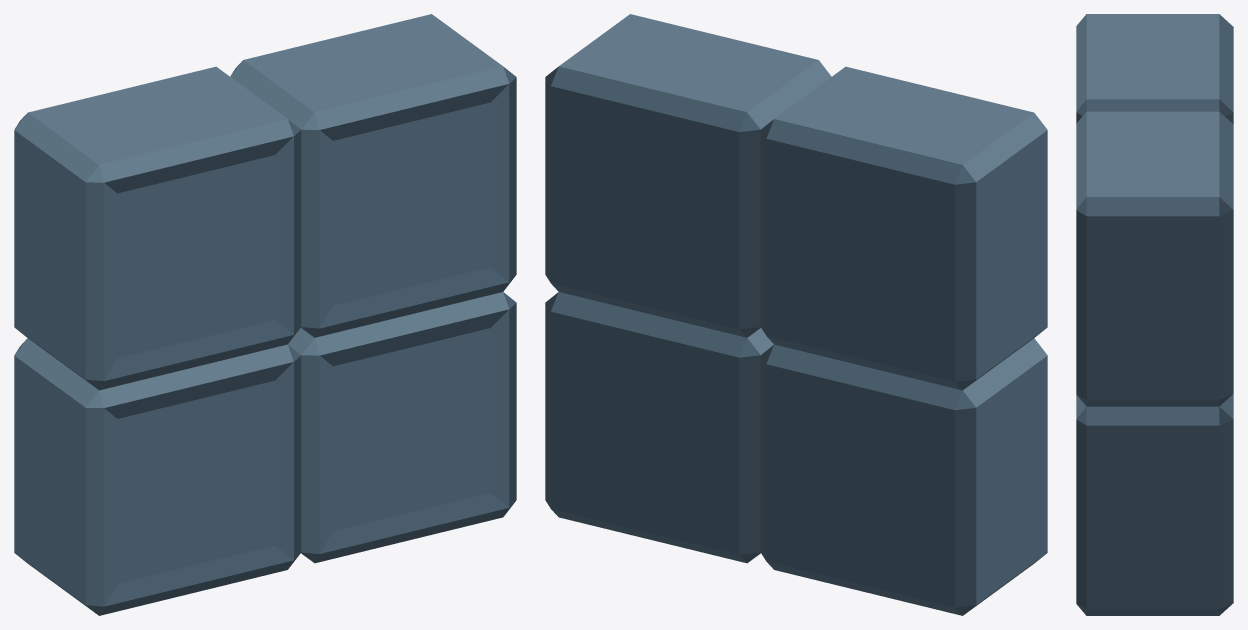
Rendered from Terrain_Block2x2.gltf.
3 renders of one model, left to right at view 1: azimuth 30°, elevation 25°; view 2: azimuth 150°, elevation 25°; view 3: azimuth 270°, elevation 25°, orthographic. The views are drawn at different scales.
Parts seen in each view (by area): view 1: Terrain_Block2x2_baked; view 2: Terrain_Block2x2_baked; view 3: Terrain_Block2x2_baked.
Boxes of the visible parts, x1,y1,x2,y2 form: Terrain_Block2x2_baked: [14, 14, 516, 615]; Terrain_Block2x2_baked: [545, 14, 1047, 615]; Terrain_Block2x2_baked: [1076, 14, 1233, 615].
Size of the model in its own units: 2 by 2 by 0.6822.
